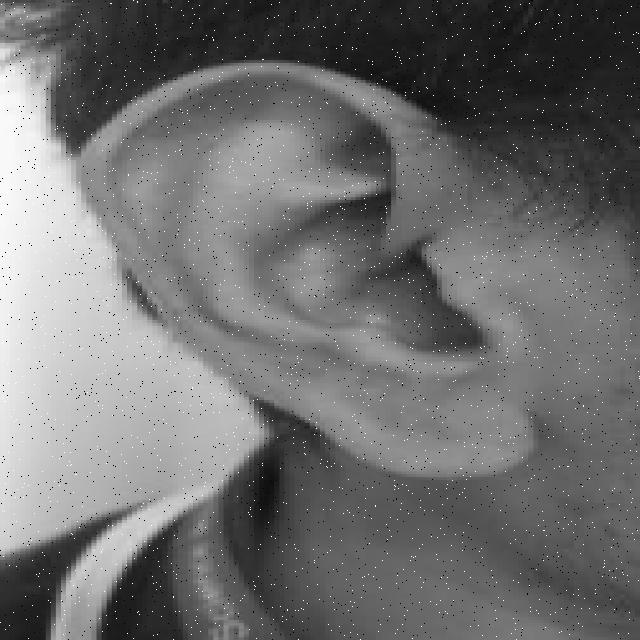ear: (81, 60, 528, 471)
